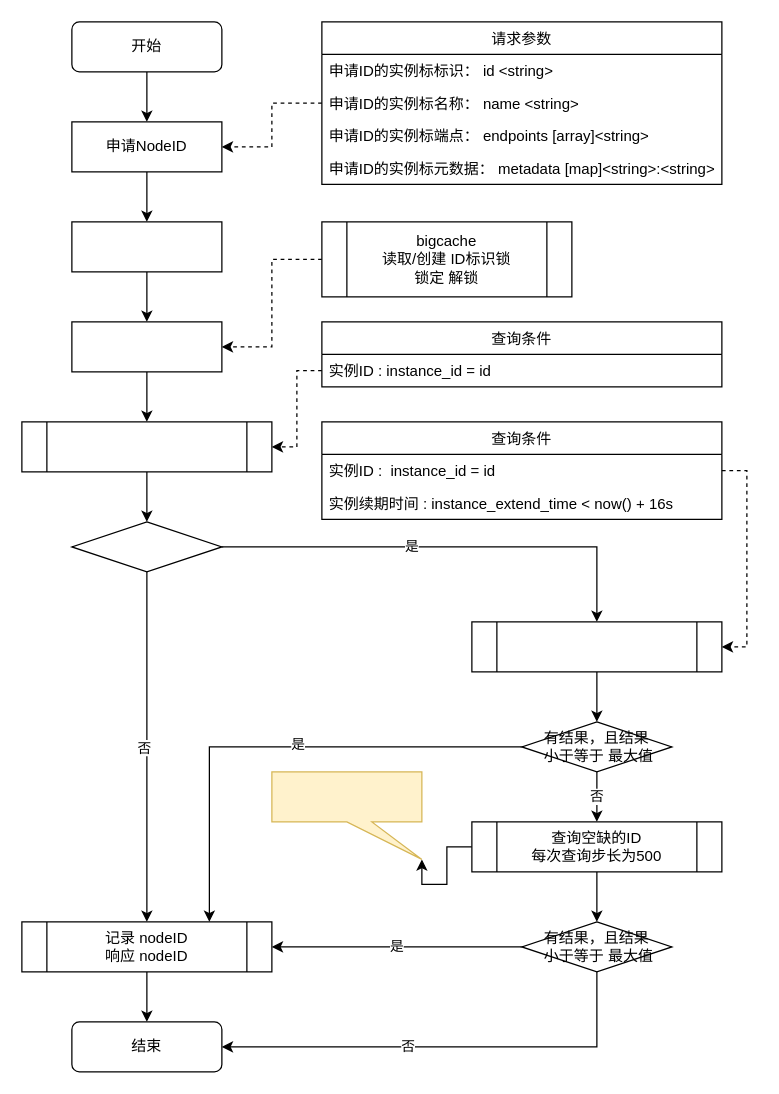
The diagram is 779 pixels wide and 1094 high, and some of its shapes have lost their labels. Here are the shapes that lost their labels. From the top down, the centre of each, then its label:
At (x=146, y=246): "节点ID提供者".
At (x=146, y=346): "实例ID：顺序操作".
At (x=146, y=446): "查询最后的 nodeID nodeID = latestID || 0".
At (x=146, y=546): "nodeID + 1 大于 最大值".
At (x=596, y=646): "查询最后ID nodeID = latestID".
At (x=346, y=815): "无需实现 除非人为删除数据".
